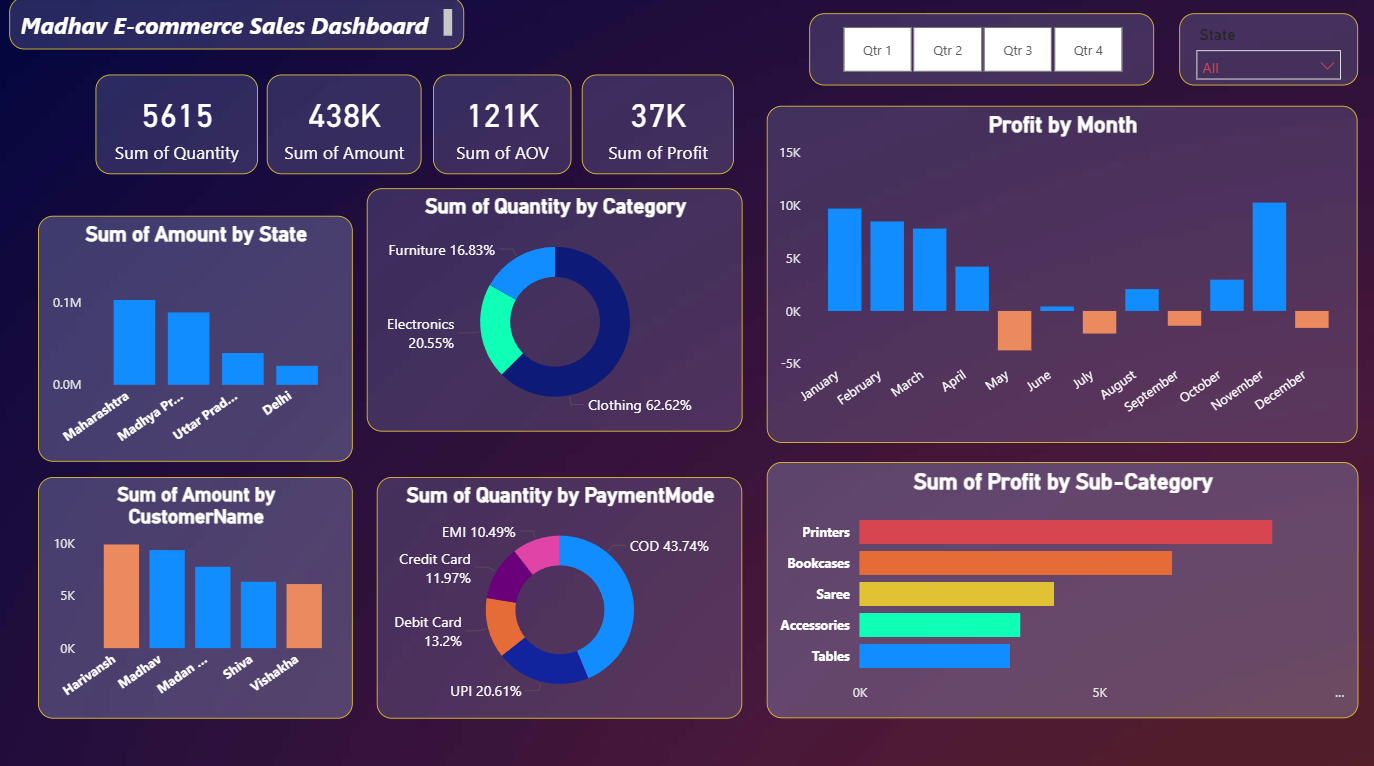

The page's visual inventory and layout, read from the dashboard file:
{"tool":"powerbi","page":{"name":"Page 1","canvas":[1280,720],"ordinal":0},"visuals":[{"type":"textbox","box":[10.4,0,423,48.8],"z":0},{"type":"columnChart","title":"Profit by Month","fields":{"Category":["Orders.Order Date.Variation.Date Hierarchy.Month"],"Y":["Details.Profit"]},"box":[715,100.8,549.8,313.9],"z":1000},{"type":"barChart","fields":{"Y":["Details.Profit"],"Category":["Details.Sub-Category"]},"box":[714.9,432.2,550.3,238.8],"z":2000},{"type":"donutChart","fields":{"Category":["Details.Category"],"Y":["Details.Quantity"]},"box":[343.1,178.4,349.9,226.4],"z":3000},{"type":"donutChart","fields":{"Y":["Details.Quantity"],"Category":["Details.PaymentMode"]},"box":[352.7,446,340.3,225],"z":4000},{"type":"card","fields":{"Values":["Details.Amount"]},"box":[250,72.1,144.2,93],"z":5000},{"type":"card","fields":{"Values":["Details.AOV"]},"box":[404.7,72.1,129.1,93],"z":6000},{"type":"card","fields":{"Values":["Details.Quantity"]},"box":[90.7,72.1,151.2,93],"z":7000},{"type":"card","fields":{"Values":["Details.Profit"]},"box":[543,72.1,141.9,93],"z":8000},{"type":"columnChart","fields":{"Category":["Orders.State"],"Y":["Details.Amount"]},"box":[37.2,203.5,293,229.1],"z":9000},{"type":"columnChart","fields":{"Category":["Orders.CustomerName"],"Y":["Details.Amount"]},"box":[37,446,293,225],"z":10000},{"type":"slicer","fields":{"Values":["Orders.Order Date.Variation.Date Hierarchy.Quarter"]},"box":[754.7,15.1,320.9,67.4],"z":11000},{"type":"slicer","fields":{"Values":["Orders.State"]},"box":[1098.8,15.1,166.3,67.4],"z":12000}]}

Visuals, with their boxes in screenshot pixels (x1, y1, x2, y2), scaled from the page's 1280x720 canvas onto the 1374x766 screenshot:
textbox: detection(11, 0, 465, 52)
"Profit by Month" columnChart: detection(768, 107, 1358, 441)
barChart - Details.Profit x Details.Sub-Category: detection(767, 460, 1358, 714)
donutChart - Details.Category x Details.Quantity: detection(368, 190, 744, 431)
donutChart - Details.Quantity x Details.PaymentMode: detection(379, 474, 744, 714)
card - Details.Amount: detection(268, 77, 423, 176)
card - Details.AOV: detection(434, 77, 573, 176)
card - Details.Quantity: detection(97, 77, 260, 176)
card - Details.Profit: detection(583, 77, 735, 176)
columnChart - Orders.State x Details.Amount: detection(40, 217, 354, 460)
columnChart - Orders.CustomerName x Details.Amount: detection(40, 474, 354, 714)
slicer - Orders.Order Date.Variation.Date Hierarchy.Quarter: detection(810, 16, 1155, 88)
slicer - Orders.State: detection(1179, 16, 1358, 88)
